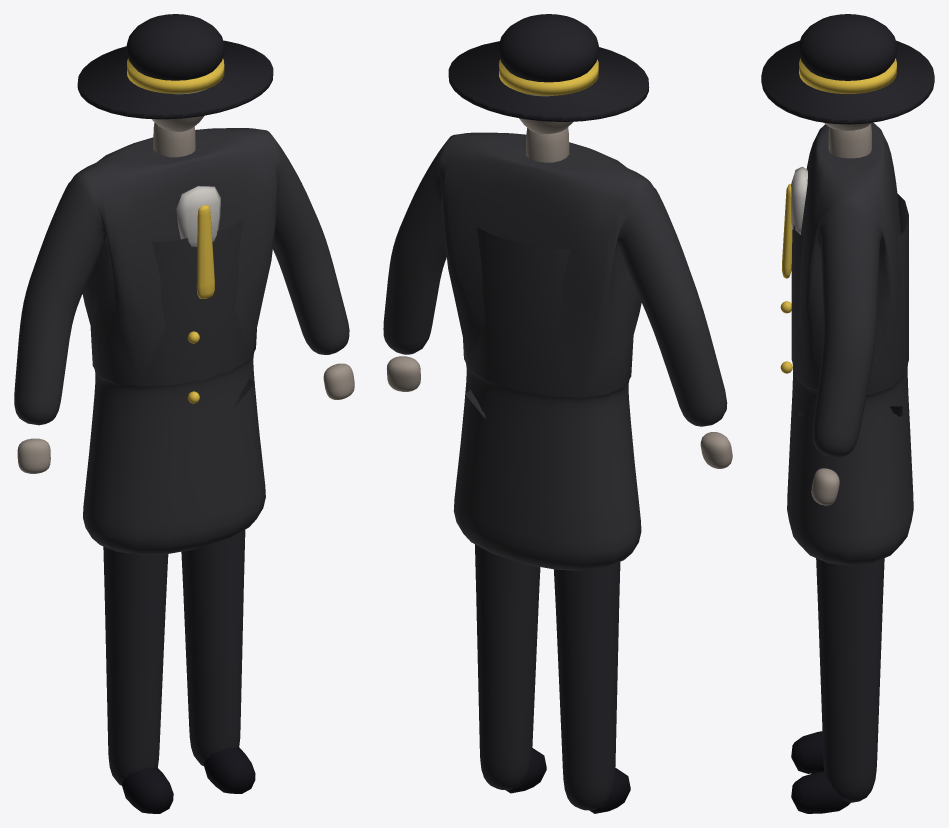
Rendered from human_noir_v2.glb.
3 renders of one model, left to right at view 1: azimuth 30°, elevation 25°; view 2: azimuth 150°, elevation 25°; view 3: azimuth 270°, elevation 25°, orthographic. The views are drawn at different scales.
Visible parts, largest first — view 1: human_noir; view 2: human_noir; view 3: human_noir.
Part boxes in pixels (x1,y1,x2,y2): human_noir: [14, 14, 354, 813]; human_noir: [383, 14, 732, 813]; human_noir: [761, 14, 934, 813].
Bounding box in the file's own units: 0.7844 × 1.73 × 0.3515.
